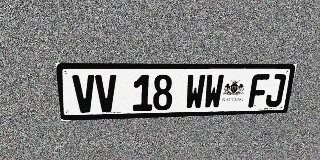1: (133, 74, 153, 111)
8: (153, 74, 173, 111)
F: (248, 74, 270, 108)
J: (265, 74, 287, 107)
V: (72, 75, 96, 113), (95, 75, 117, 112)
W: (185, 74, 206, 110), (203, 74, 224, 109)
